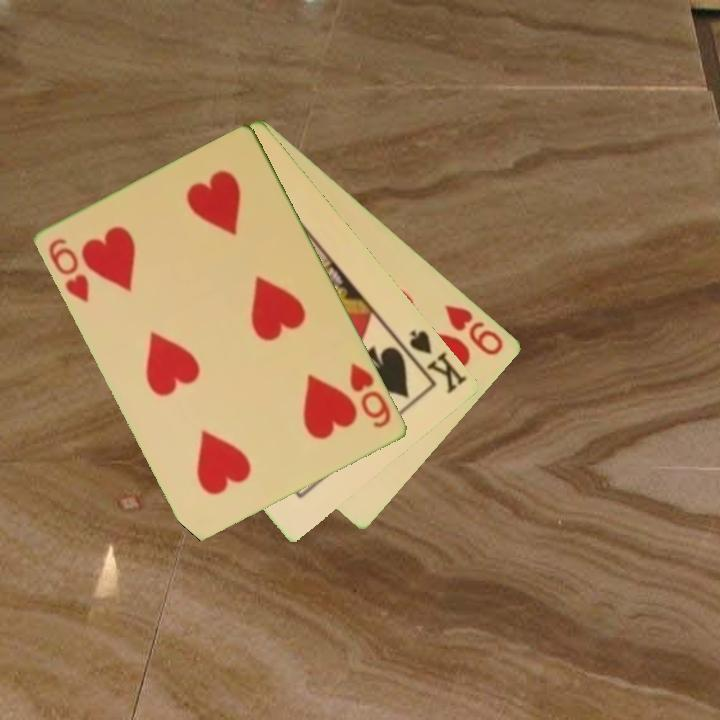6h: (346, 359, 395, 432), (45, 234, 93, 306)
9h: (441, 301, 507, 359)
Ks: (395, 326, 470, 397)
